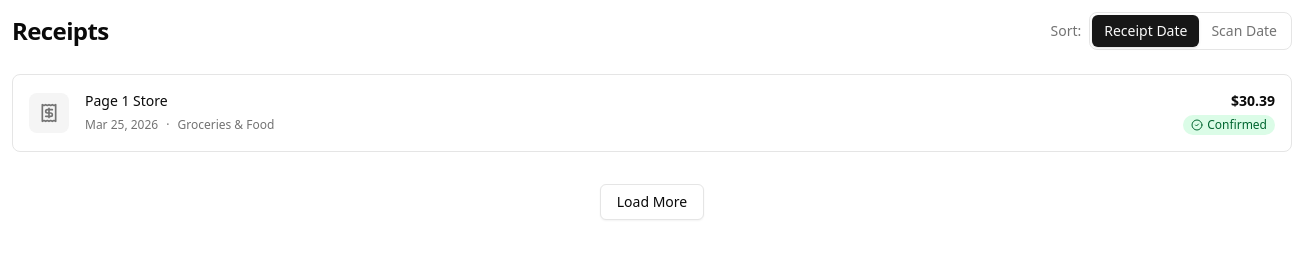
Test case: ReceiptsPage › fetches next page when Load More is clicked
Expected: the text "Page 1 Store" is shown, [85,91,168,111]
Click the button "Load More".
click(652, 202)  # box [600,184,704,220]
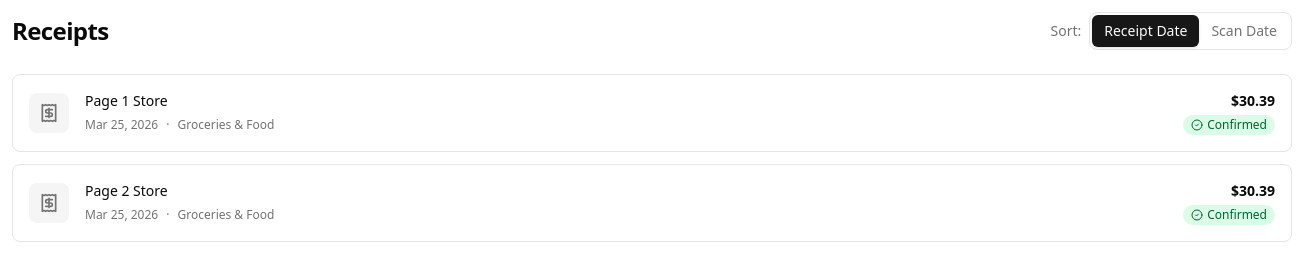
Expected: the text "Page 1 Store" is shown, [85,91,168,111]
Result: the text "Page 2 Store" is shown at [85,181,168,201]
